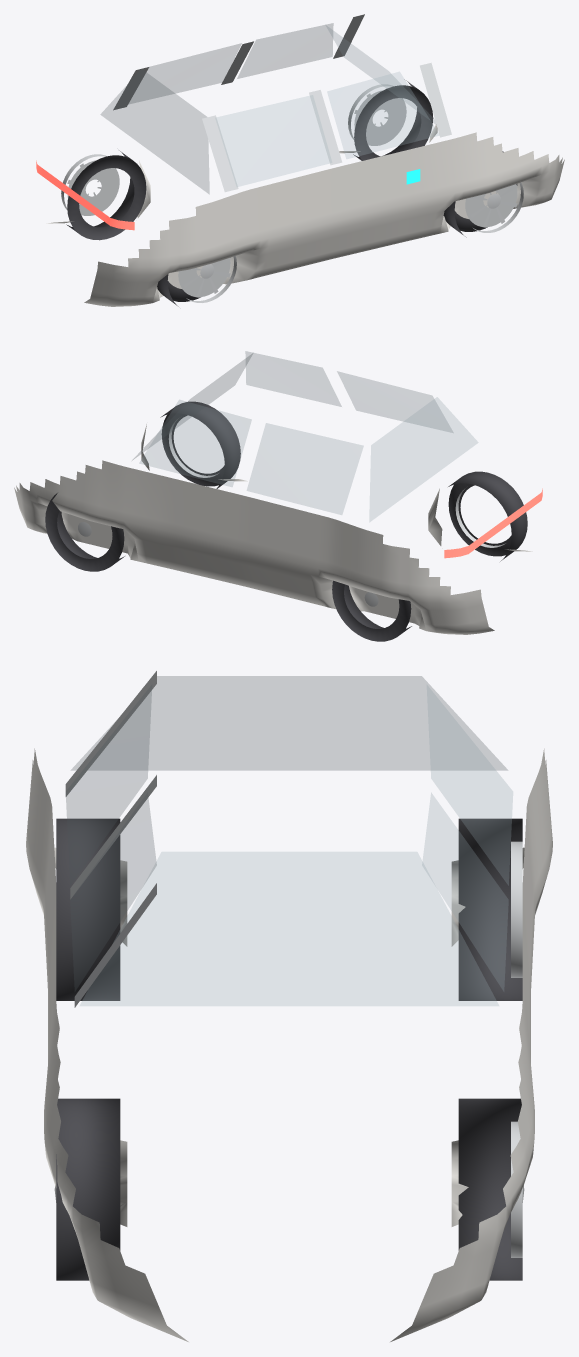
Rendered from ev-suv.glb.
The picture shows the model from 3 angles, top to bottom: view 1: azimuth 30°, elevation 25°; view 2: azimuth 150°, elevation 25°; view 3: azimuth 270°, elevation 25°; orthographic projection. The views are drawn at different scales.
Visible parts, largest first — view 1: EvSuv; view 2: EvSuv; view 3: EvSuv.
Part boxes in pixels (x1,y1,x2,y2): EvSuv: (36, 14, 564, 306); EvSuv: (14, 351, 542, 641); EvSuv: (26, 671, 552, 1341).
Size of the model in its own units: 4.78 by 1.7 by 2.31.
